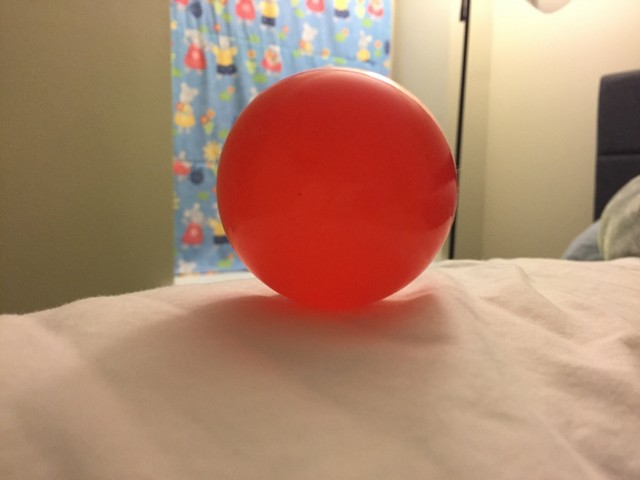Ball: (211, 67, 458, 308)
